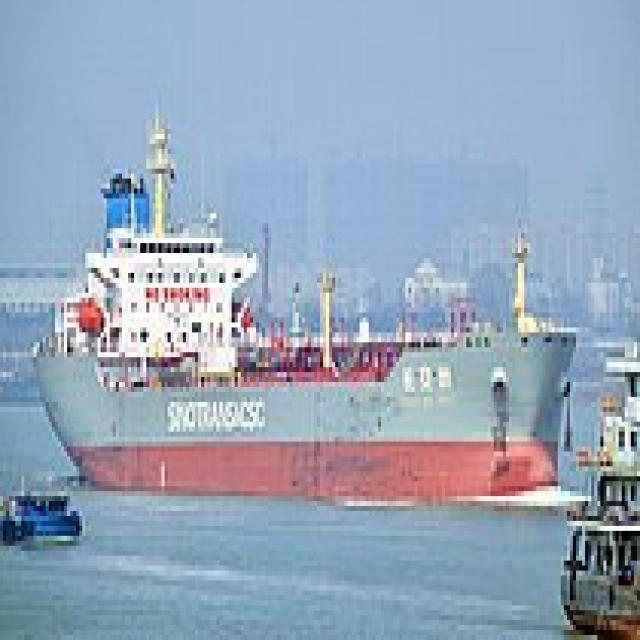Tanker: (24, 89, 579, 501)
